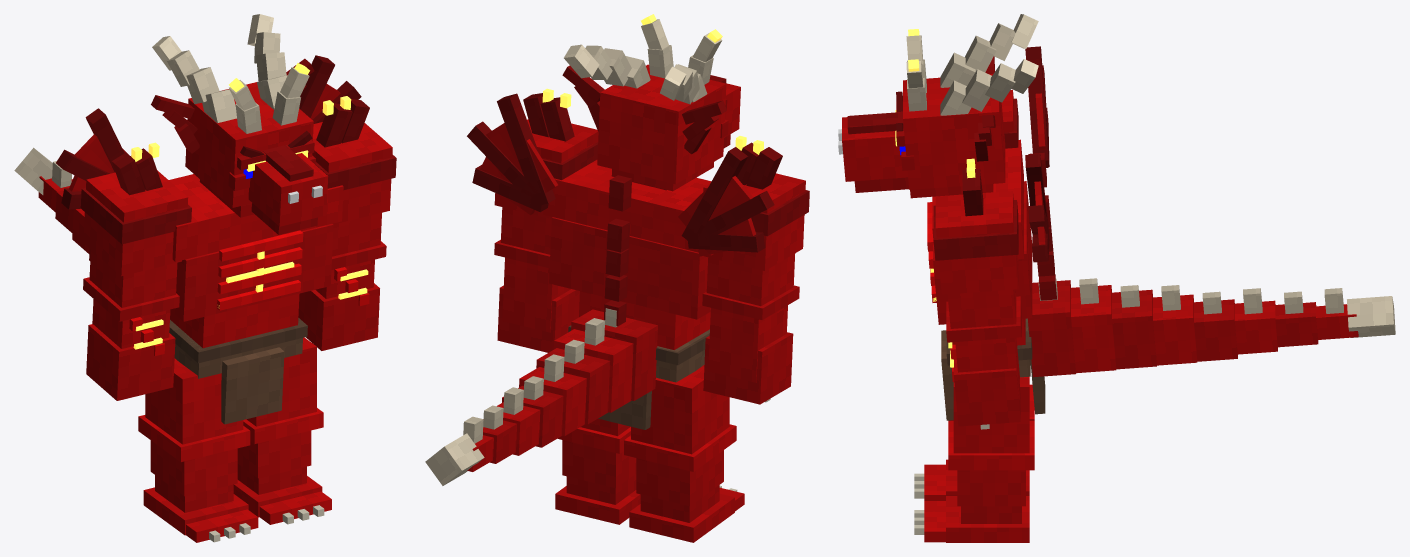
The model's file is dragonoid_s0_evo2.glb.
The picture shows the model from 3 angles, left to right: view 1: azimuth 30°, elevation 25°; view 2: azimuth 150°, elevation 25°; view 3: azimuth 270°, elevation 25°; orthographic projection.
Parts seen in each view (by area): view 1: Torso, Head, ArmR, ArmL, LegR, LegL, Root; view 2: Torso, Head, ArmR, LegR, ArmL, LegL; view 3: Torso, Head, ArmL, LegL, LegR, ArmR.
Boxes of the visible parts, left/top/right/bottom form: Torso: left=14, top=55, right=361, bottom=424; Head: left=151, top=14, right=328, bottom=234; ArmR: left=80, top=142, right=191, bottom=400; ArmL: left=298, top=96, right=396, bottom=350; LegR: left=138, top=358, right=258, bottom=542; LegL: left=233, top=337, right=331, bottom=524; Root: left=209, top=505, right=324, bottom=542; Torso: left=425, top=93, right=774, bottom=485; Head: left=562, top=14, right=740, bottom=191; ArmR: left=702, top=136, right=809, bottom=404; LegR: left=624, top=365, right=744, bottom=542; ArmL: left=494, top=88, right=598, bottom=352; LegL: left=555, top=418, right=640, bottom=524; Torso: left=927, top=46, right=1395, bottom=420; Head: left=838, top=14, right=1038, bottom=198; ArmL: left=933, top=158, right=1021, bottom=429; LegL: left=924, top=376, right=1034, bottom=542; LegR: left=924, top=384, right=1034, bottom=500; ArmR: left=1001, top=89, right=1018, bottom=148.
Bounding box in the file's own units: 1.38 × 2.05 × 2.2.
Materials: 32 (32 with a texture image).
